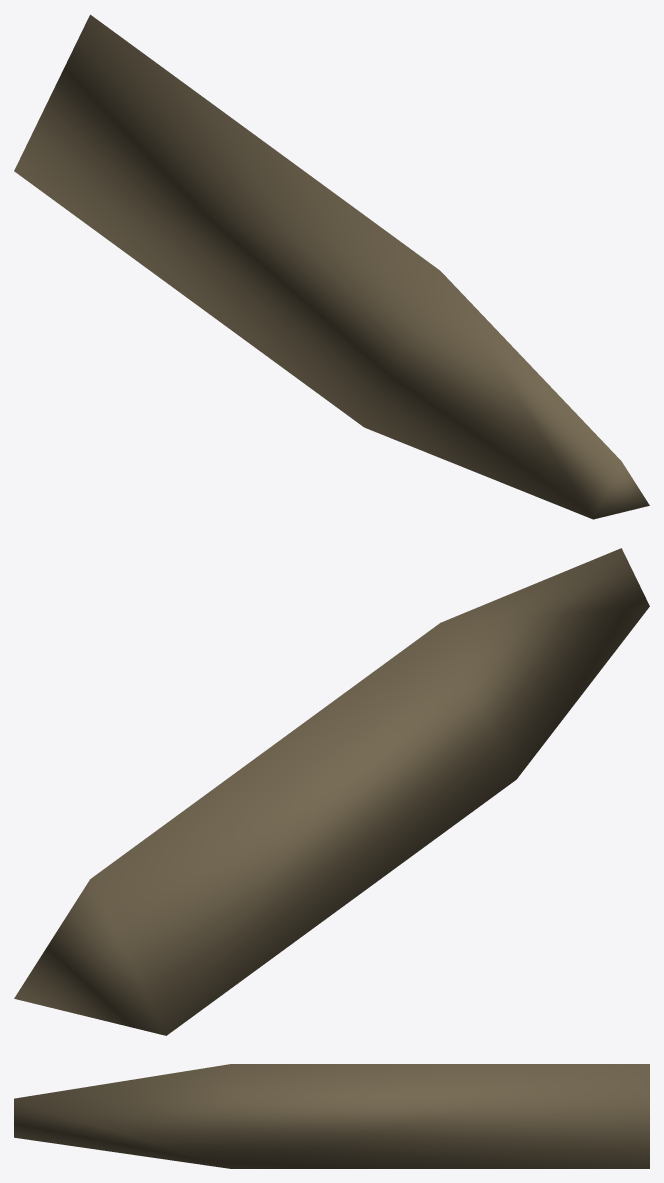
File: MissileNPC.fbx
3 renders of one model, top to bottom at view 1: azimuth 30°, elevation 25°; view 2: azimuth 150°, elevation 25°; view 3: azimuth 270°, elevation 25°, orthographic. The views are drawn at different scales.
Visible parts, largest first — view 1: MissileSmall; view 2: MissileSmall; view 3: MissileSmall.
Boxes of the visible parts, box(x1,y1,x2,y2) form: MissileSmall: box(14, 14, 649, 519); MissileSmall: box(14, 548, 649, 1035); MissileSmall: box(14, 1064, 649, 1168).
Bounding box in the file's own units: 90.61 × 78.47 × 547.
